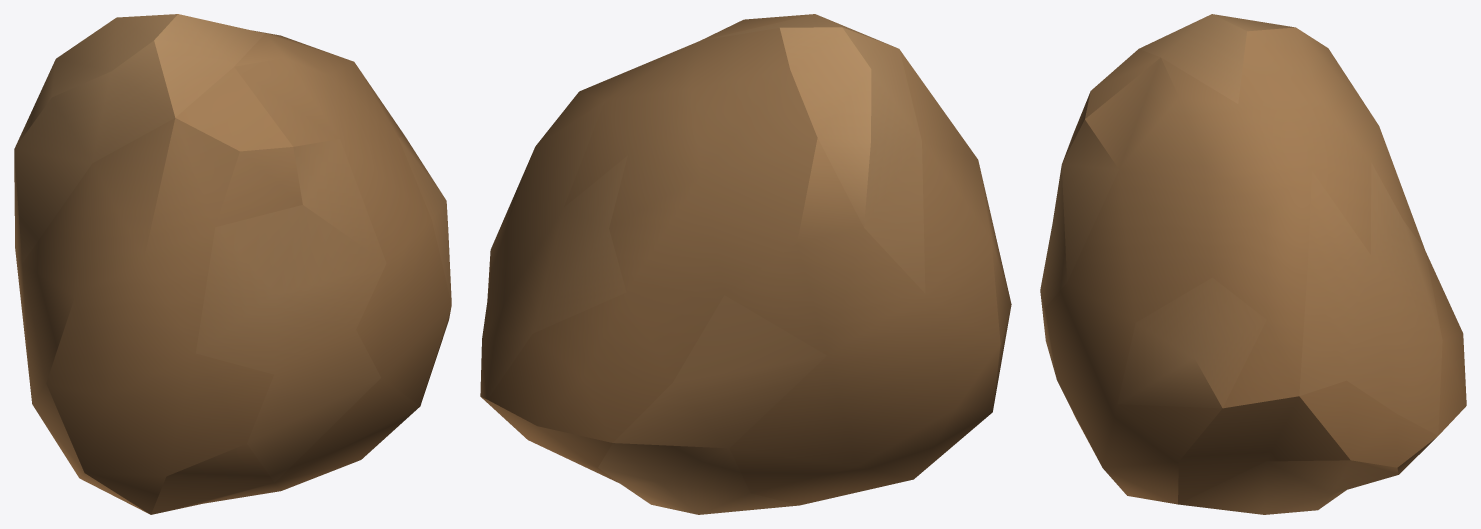
Rendered from Rock_3_H_Color5.fbx.
3 renders of one model, left to right at view 1: azimuth 30°, elevation 25°; view 2: azimuth 150°, elevation 25°; view 3: azimuth 270°, elevation 25°, orthographic. The views are drawn at different scales.
Parts seen in each view (by area): view 1: Rock_3_H_Color5; view 2: Rock_3_H_Color5; view 3: Rock_3_H_Color5.
Boxes of the visible parts, x1,y1,x2,y2 form: Rock_3_H_Color5: [14, 14, 451, 514]; Rock_3_H_Color5: [480, 14, 1011, 514]; Rock_3_H_Color5: [1040, 14, 1466, 514].
Size of the model in its own units: 1.95 by 2.06 by 1.76.
